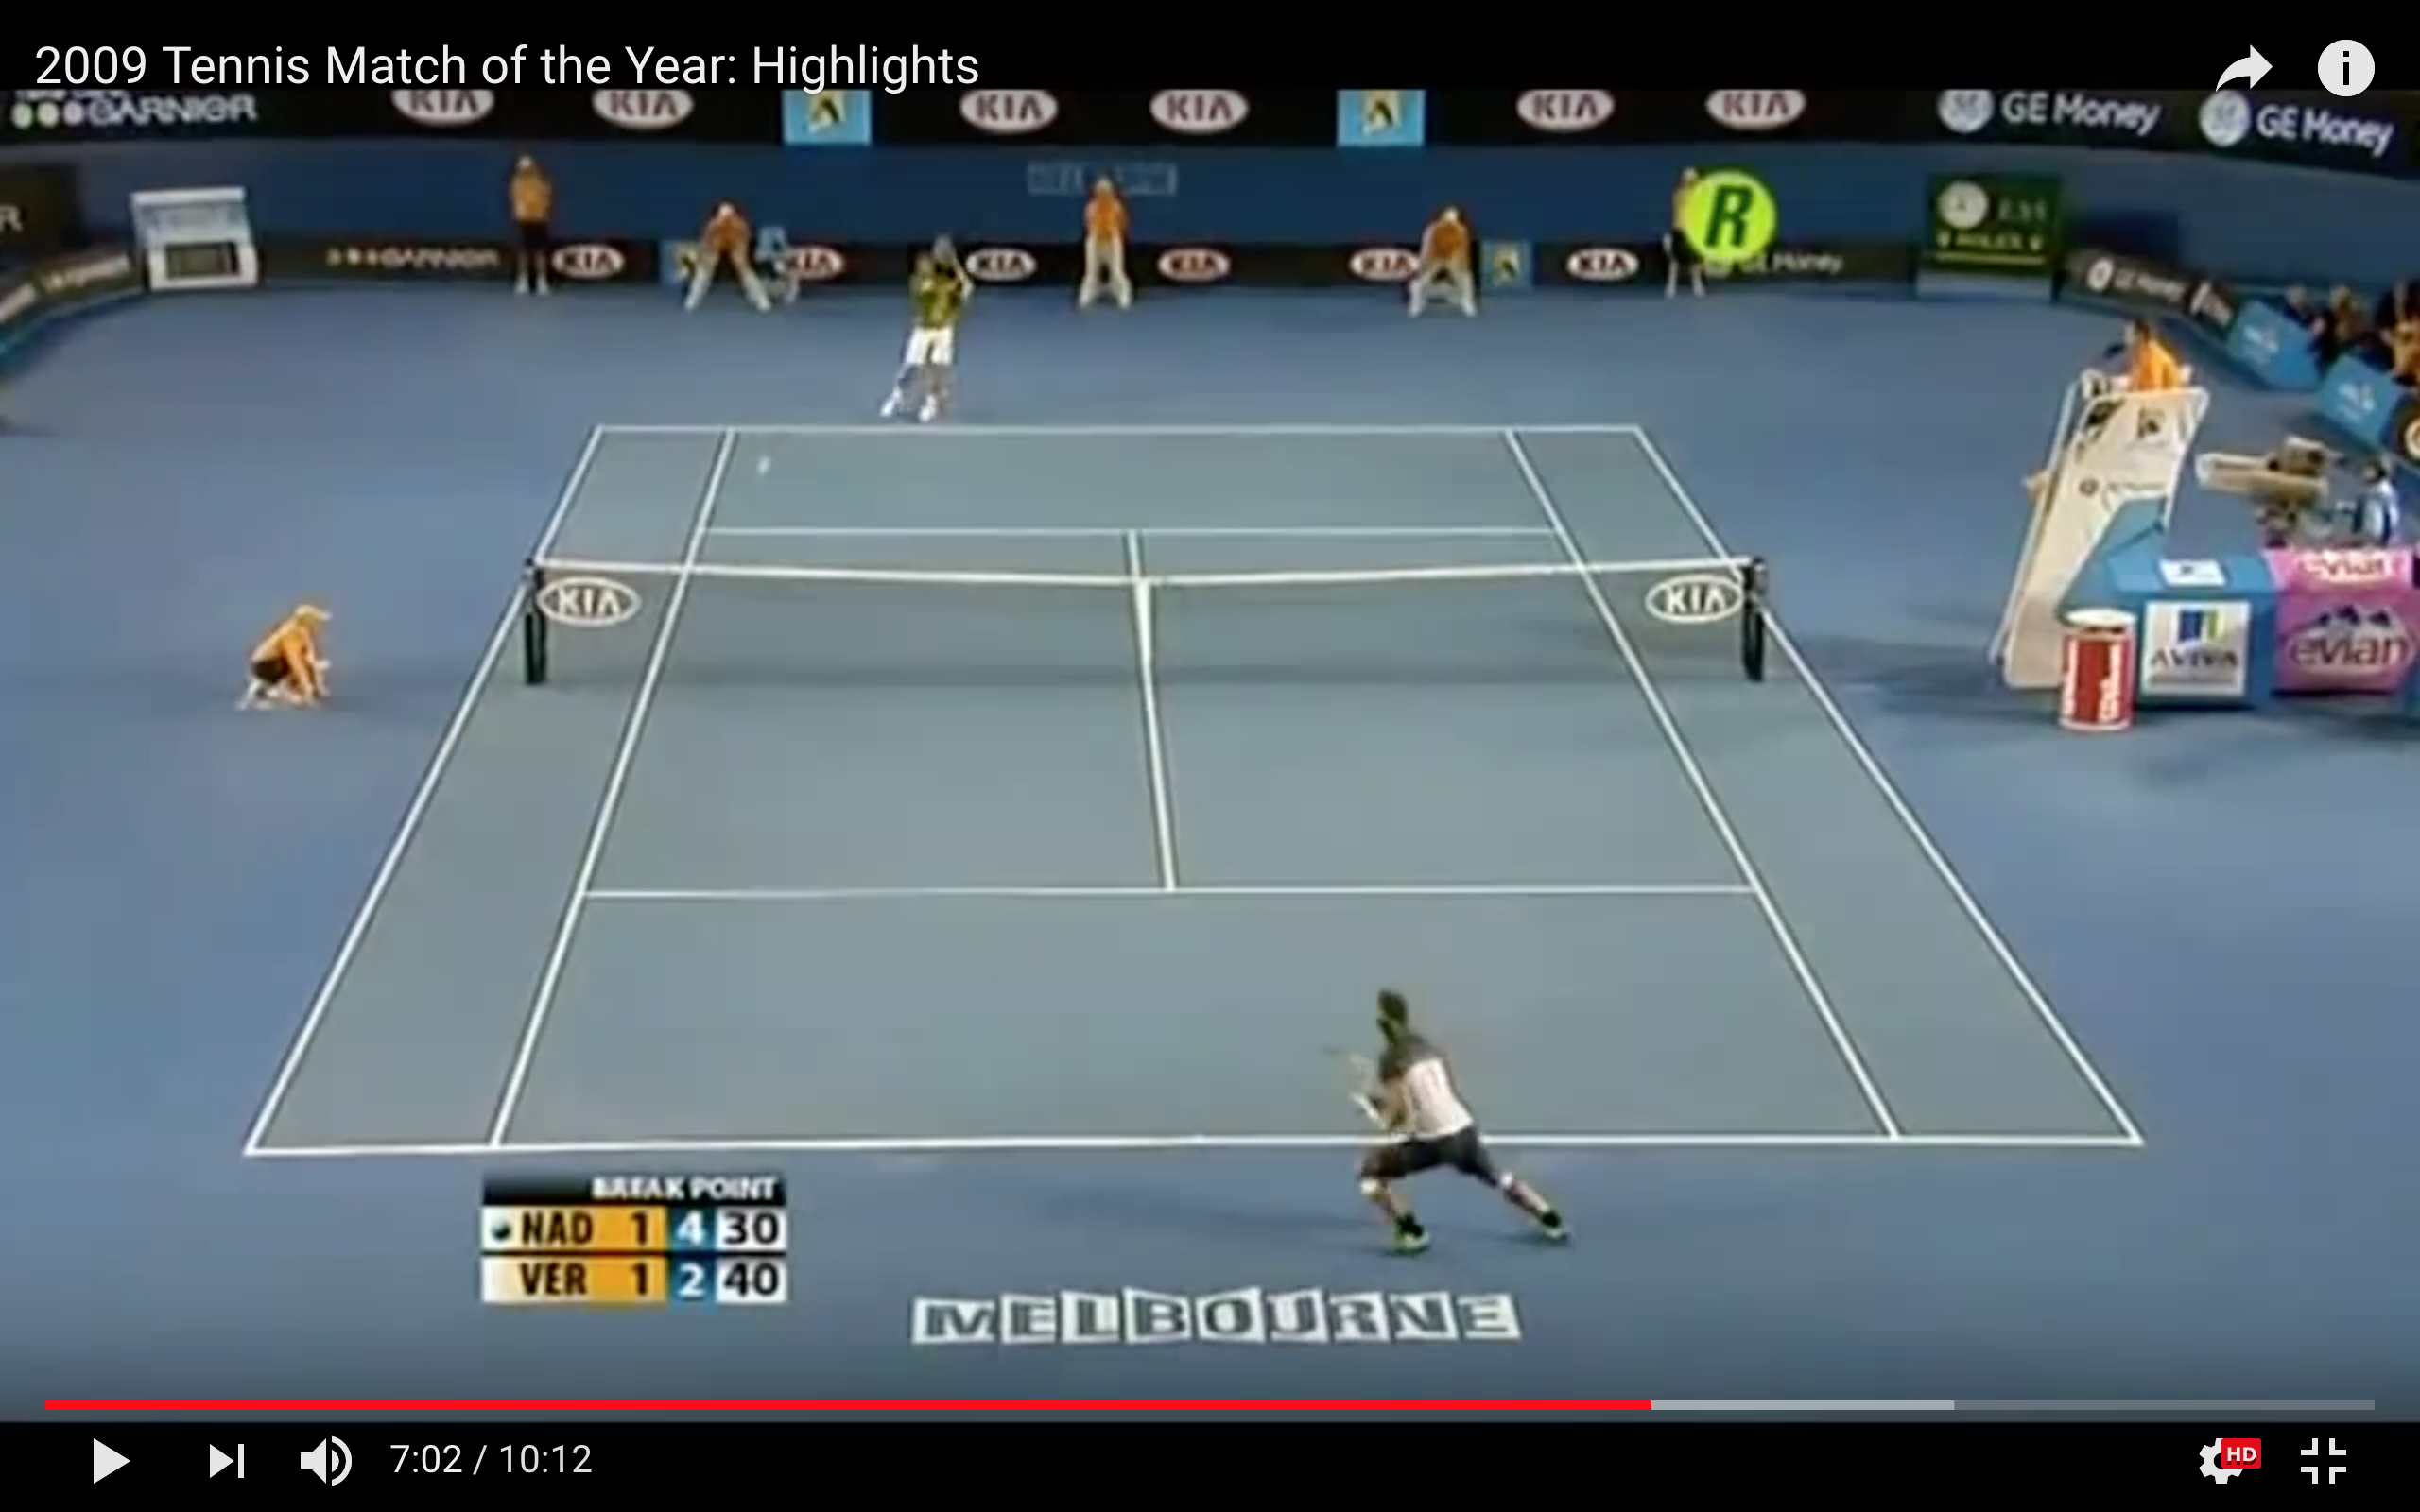tennis ball: (752, 456, 779, 484)
tennis player: (1313, 987, 1583, 1254), (875, 232, 987, 431)
